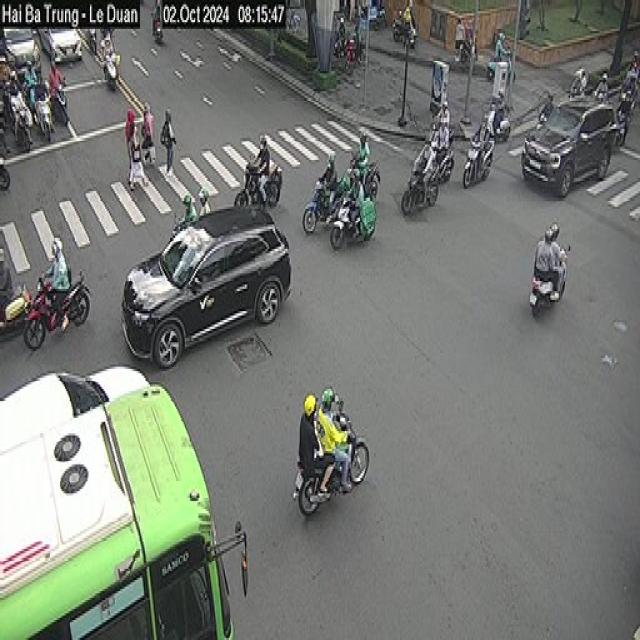bus: (0, 362, 232, 640)
car: (119, 208, 292, 360), (1, 361, 148, 452), (524, 108, 609, 203), (39, 31, 90, 70), (4, 25, 37, 71)
motorcycle: (299, 453, 378, 535), (25, 282, 84, 342), (460, 146, 520, 194), (514, 276, 576, 320), (325, 206, 380, 249), (0, 287, 34, 354), (30, 102, 65, 153), (401, 174, 440, 219), (303, 190, 340, 236), (239, 162, 281, 202), (345, 160, 386, 200), (11, 120, 38, 171), (430, 140, 459, 186), (480, 114, 523, 142), (46, 100, 84, 130), (392, 23, 424, 58), (484, 57, 522, 85), (81, 22, 105, 63), (99, 68, 126, 104), (455, 39, 482, 74), (331, 39, 353, 78), (613, 126, 637, 157), (345, 40, 363, 80), (622, 92, 640, 132), (152, 23, 174, 55), (529, 106, 554, 133), (0, 83, 14, 123), (593, 84, 611, 112), (568, 84, 588, 108), (24, 86, 36, 114), (33, 61, 46, 86)
person: (316, 383, 351, 495), (549, 204, 575, 303), (47, 233, 70, 334), (299, 395, 323, 477), (425, 112, 453, 176), (156, 96, 177, 178), (256, 116, 275, 203), (136, 96, 158, 166), (0, 239, 15, 331), (438, 80, 460, 142), (349, 158, 366, 238), (128, 134, 145, 212), (415, 130, 437, 190), (320, 148, 338, 219), (120, 108, 138, 178), (472, 104, 491, 170), (347, 136, 368, 188), (566, 62, 590, 104), (492, 88, 510, 142), (535, 227, 553, 279), (176, 187, 194, 238), (6, 69, 25, 116), (622, 71, 638, 124), (197, 176, 213, 226), (24, 56, 48, 88), (536, 88, 554, 126), (101, 30, 118, 70), (624, 34, 640, 76), (147, 0, 165, 36), (355, 11, 369, 55), (595, 68, 612, 104), (29, 71, 49, 101), (401, 0, 416, 35), (465, 10, 478, 50), (339, 13, 350, 60), (45, 63, 61, 94), (454, 15, 466, 50), (496, 35, 508, 69)
